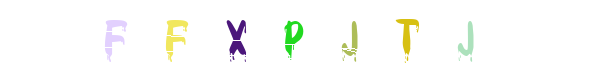F: (154, 0, 234, 80), (197, 0, 277, 80)
J: (305, 0, 385, 80), (367, 0, 447, 80)
P: (267, 0, 347, 80)
T: (353, 0, 433, 80)
X: (252, 0, 332, 80)
